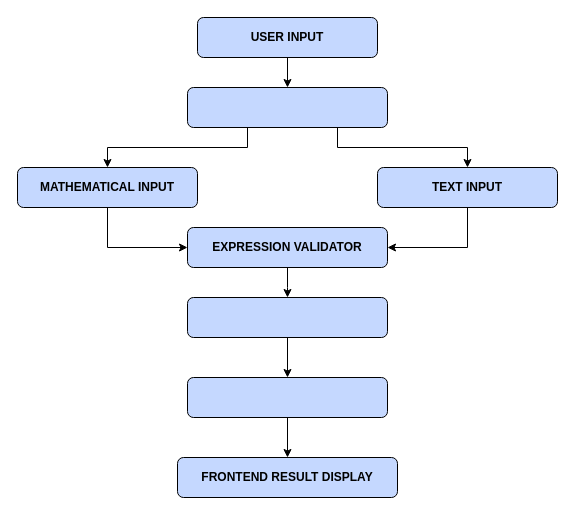
Some shapes in this 575 by 515 pixel diagram are drawn without their labels. The shapes that lost their labels are listed below. From the top down, each one's box as (x1, y1, x2, y2) in pixels, then its label:
(186, 86, 388, 128): LLM INTENT CLASSIFIER
(186, 296, 388, 338): MATHEMATICAL ENGINE
(186, 376, 388, 418): RESPONSE FORMATTER
